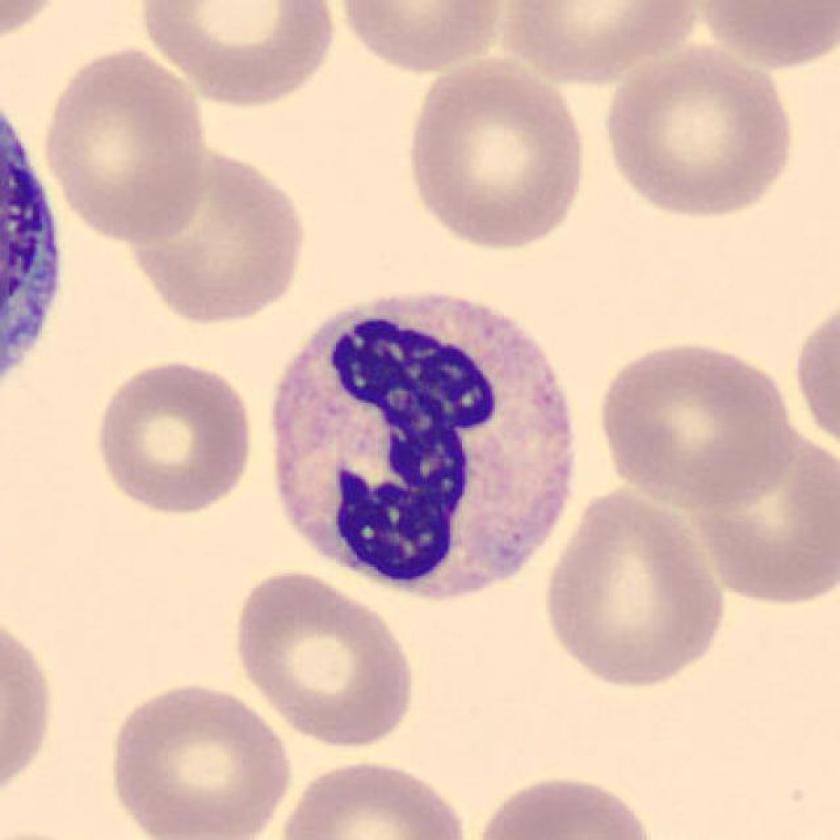neutrophil: (270, 294, 576, 597)
